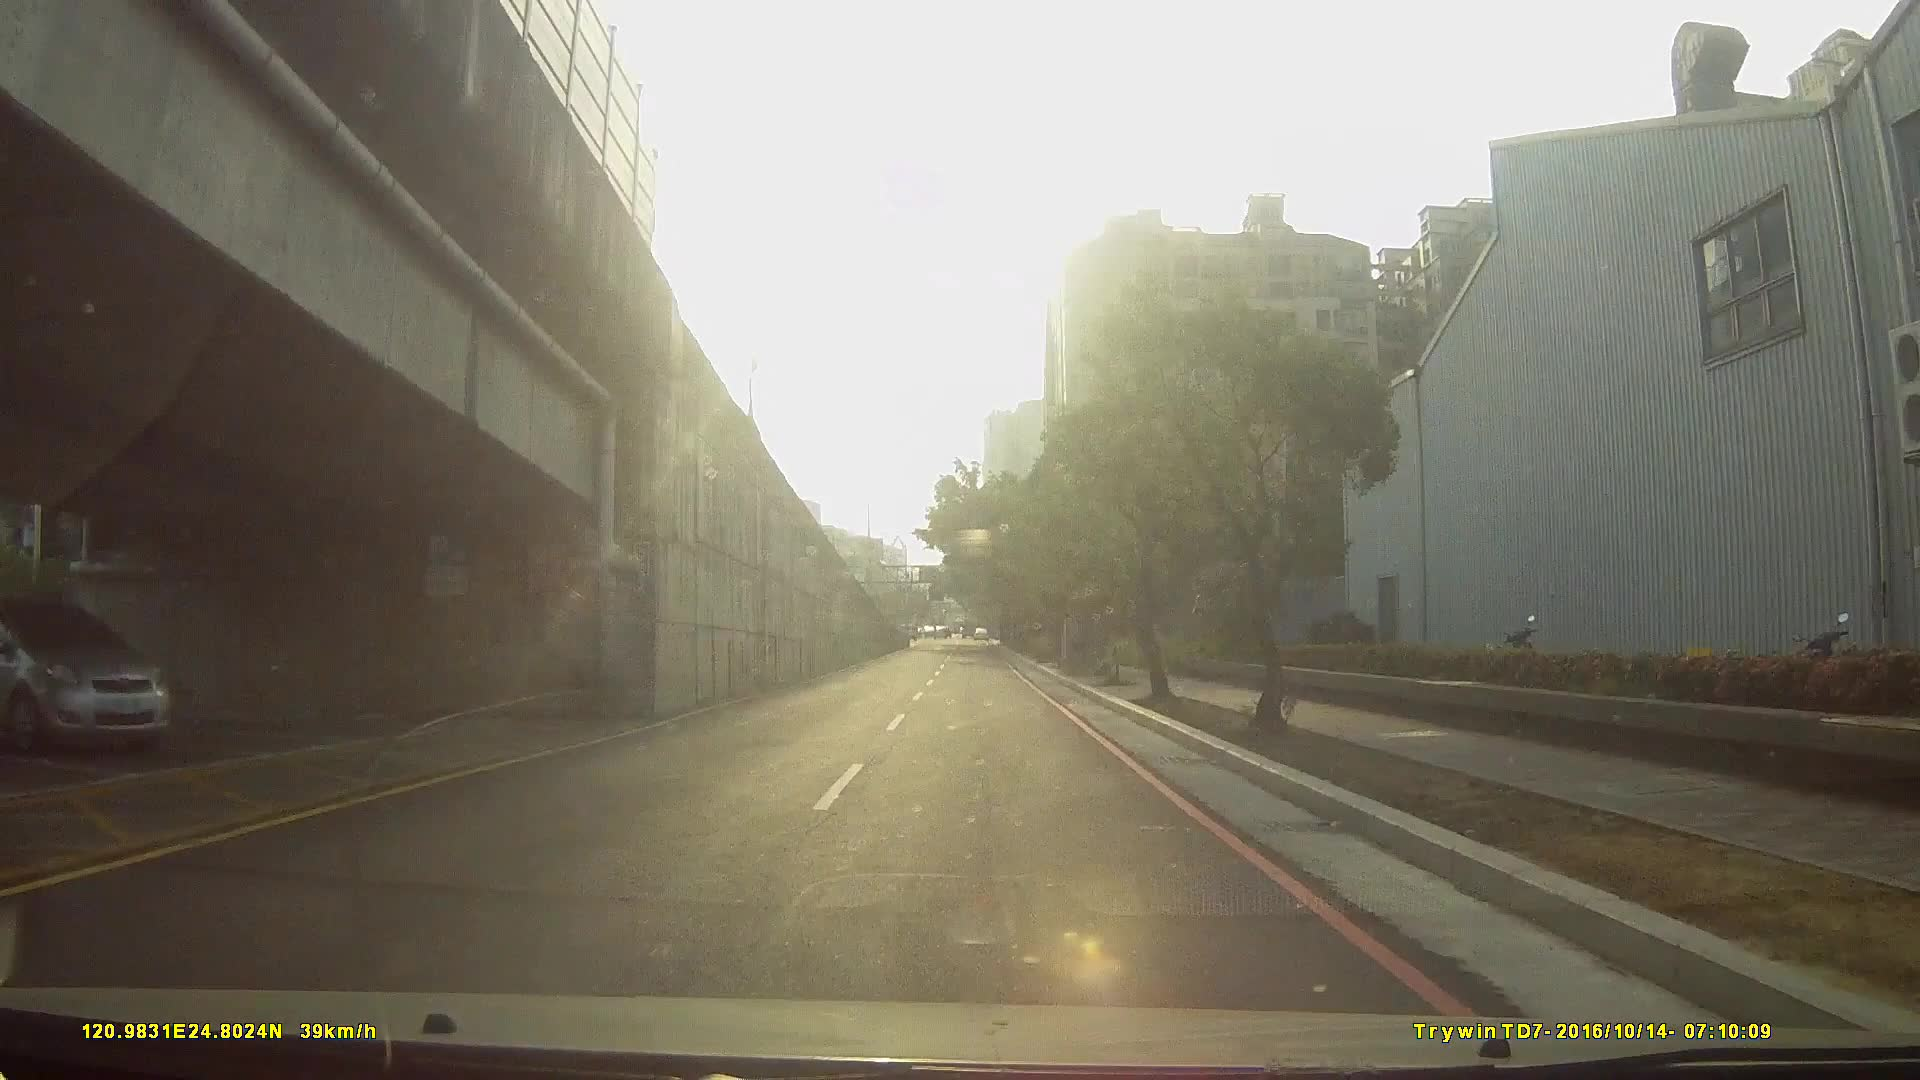vehicle: (1, 595, 171, 762)
